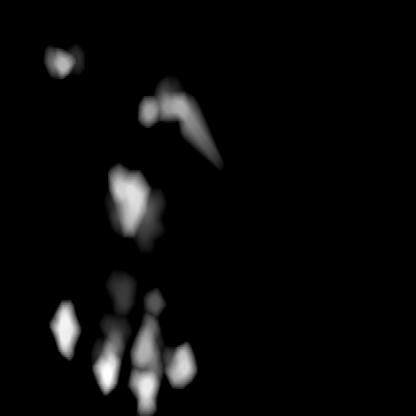fingers: (41, 44, 83, 74)
palm: (52, 268, 196, 411)
thumb: (106, 79, 207, 234)
